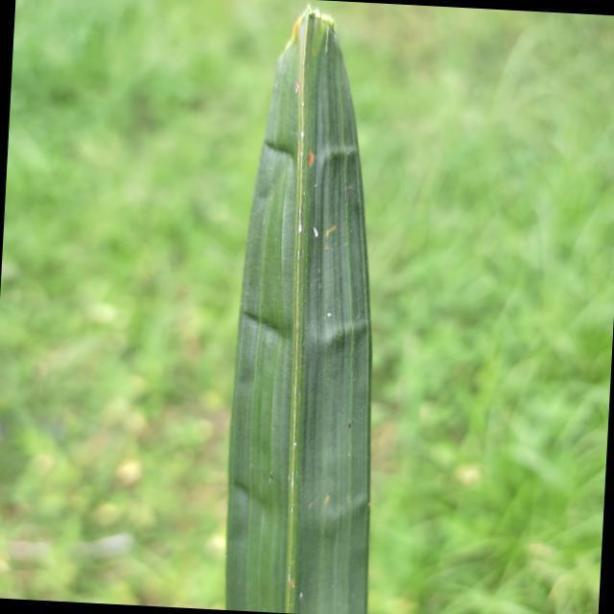Boron: (224, 5, 371, 614)
